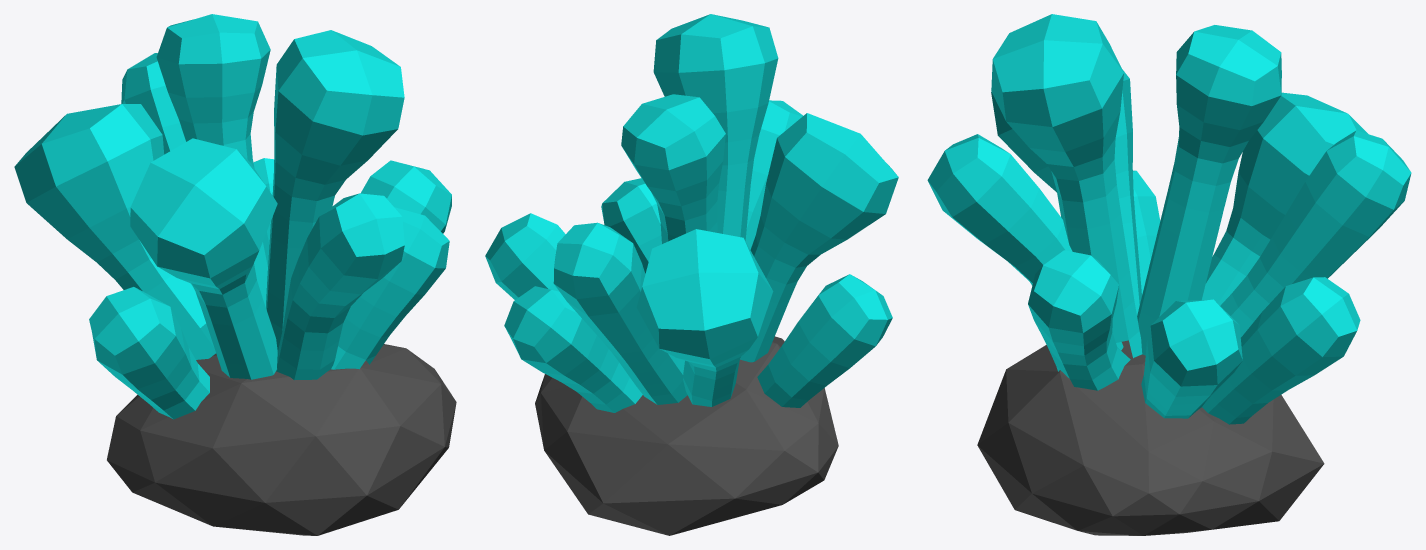
File: coral 5.fbx
The picture shows the model from 3 angles, left to right: view 1: azimuth 30°, elevation 25°; view 2: azimuth 150°, elevation 25°; view 3: azimuth 270°, elevation 25°; orthographic projection. The views are drawn at different scales.
Visible parts, largest first — view 1: Plane.001; view 2: Plane.001; view 3: Plane.001.
Part boxes in pixels (box(x1,y1,x2,y2)): Plane.001: box(14, 14, 456, 535); Plane.001: box(485, 14, 898, 535); Plane.001: box(927, 14, 1411, 535).
Bounding box in the file's own units: 51.07 × 58.95 × 54.01.
